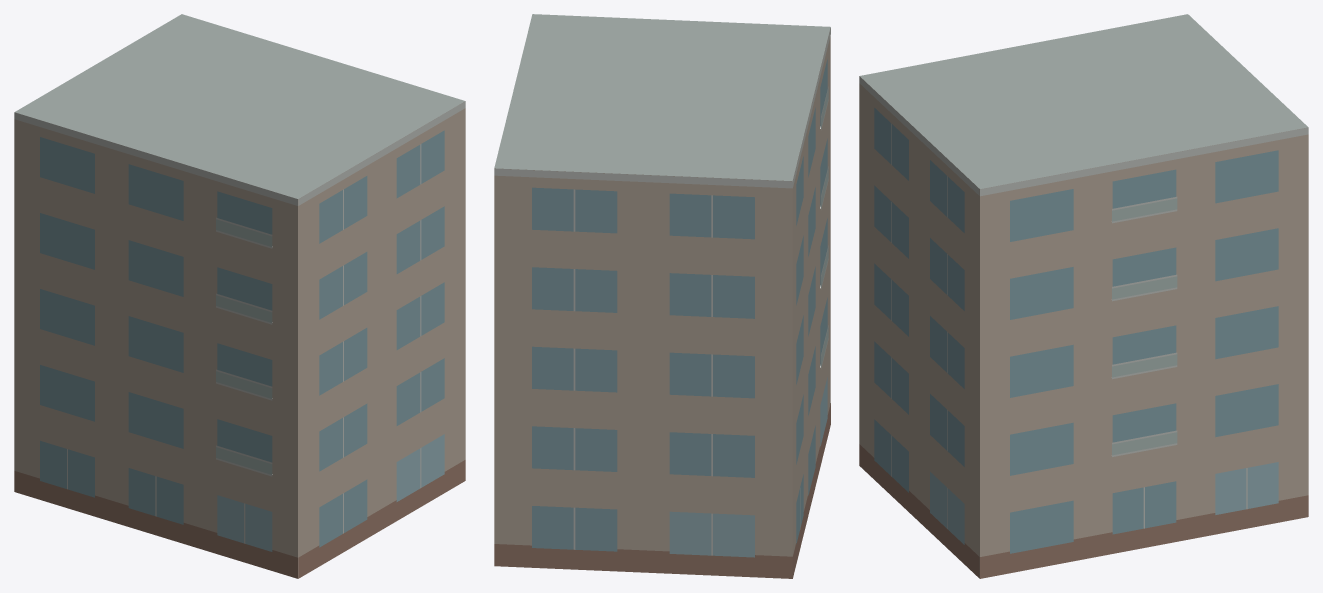
File: survey-upis-32553302.glb
The picture shows the model from 3 angles, left to right: view 1: azimuth 30°, elevation 25°; view 2: azimuth 150°, elevation 25°; view 3: azimuth 270°, elevation 25°; orthographic projection. The views are drawn at different scales.
Parts seen in each view (by area): view 1: survey-upis-32553302.tmp; view 2: survey-upis-32553302.tmp; view 3: survey-upis-32553302.tmp.
Part boxes in pixels (left/top/right/bottom): survey-upis-32553302.tmp: left=14, top=14, right=465, bottom=578; survey-upis-32553302.tmp: left=494, top=14, right=830, bottom=578; survey-upis-32553302.tmp: left=859, top=14, right=1308, bottom=578.
Bounding box in the file's own units: 12.83 × 13.3 × 13.9.
